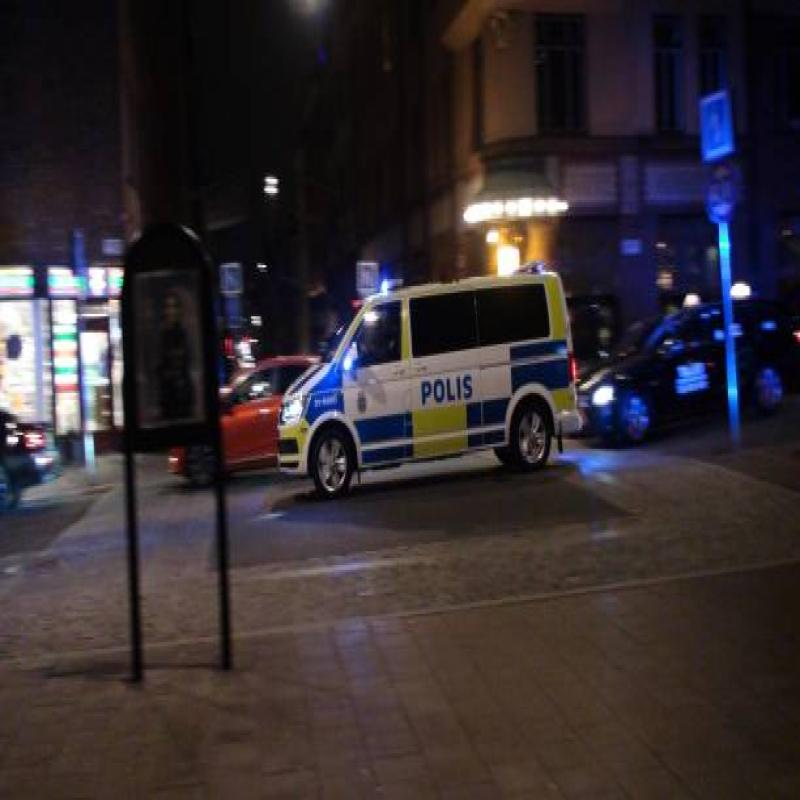AmbulanceSiren: (367, 256, 407, 306)
